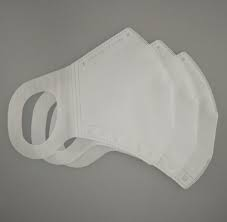mask: (38, 36, 169, 169)
